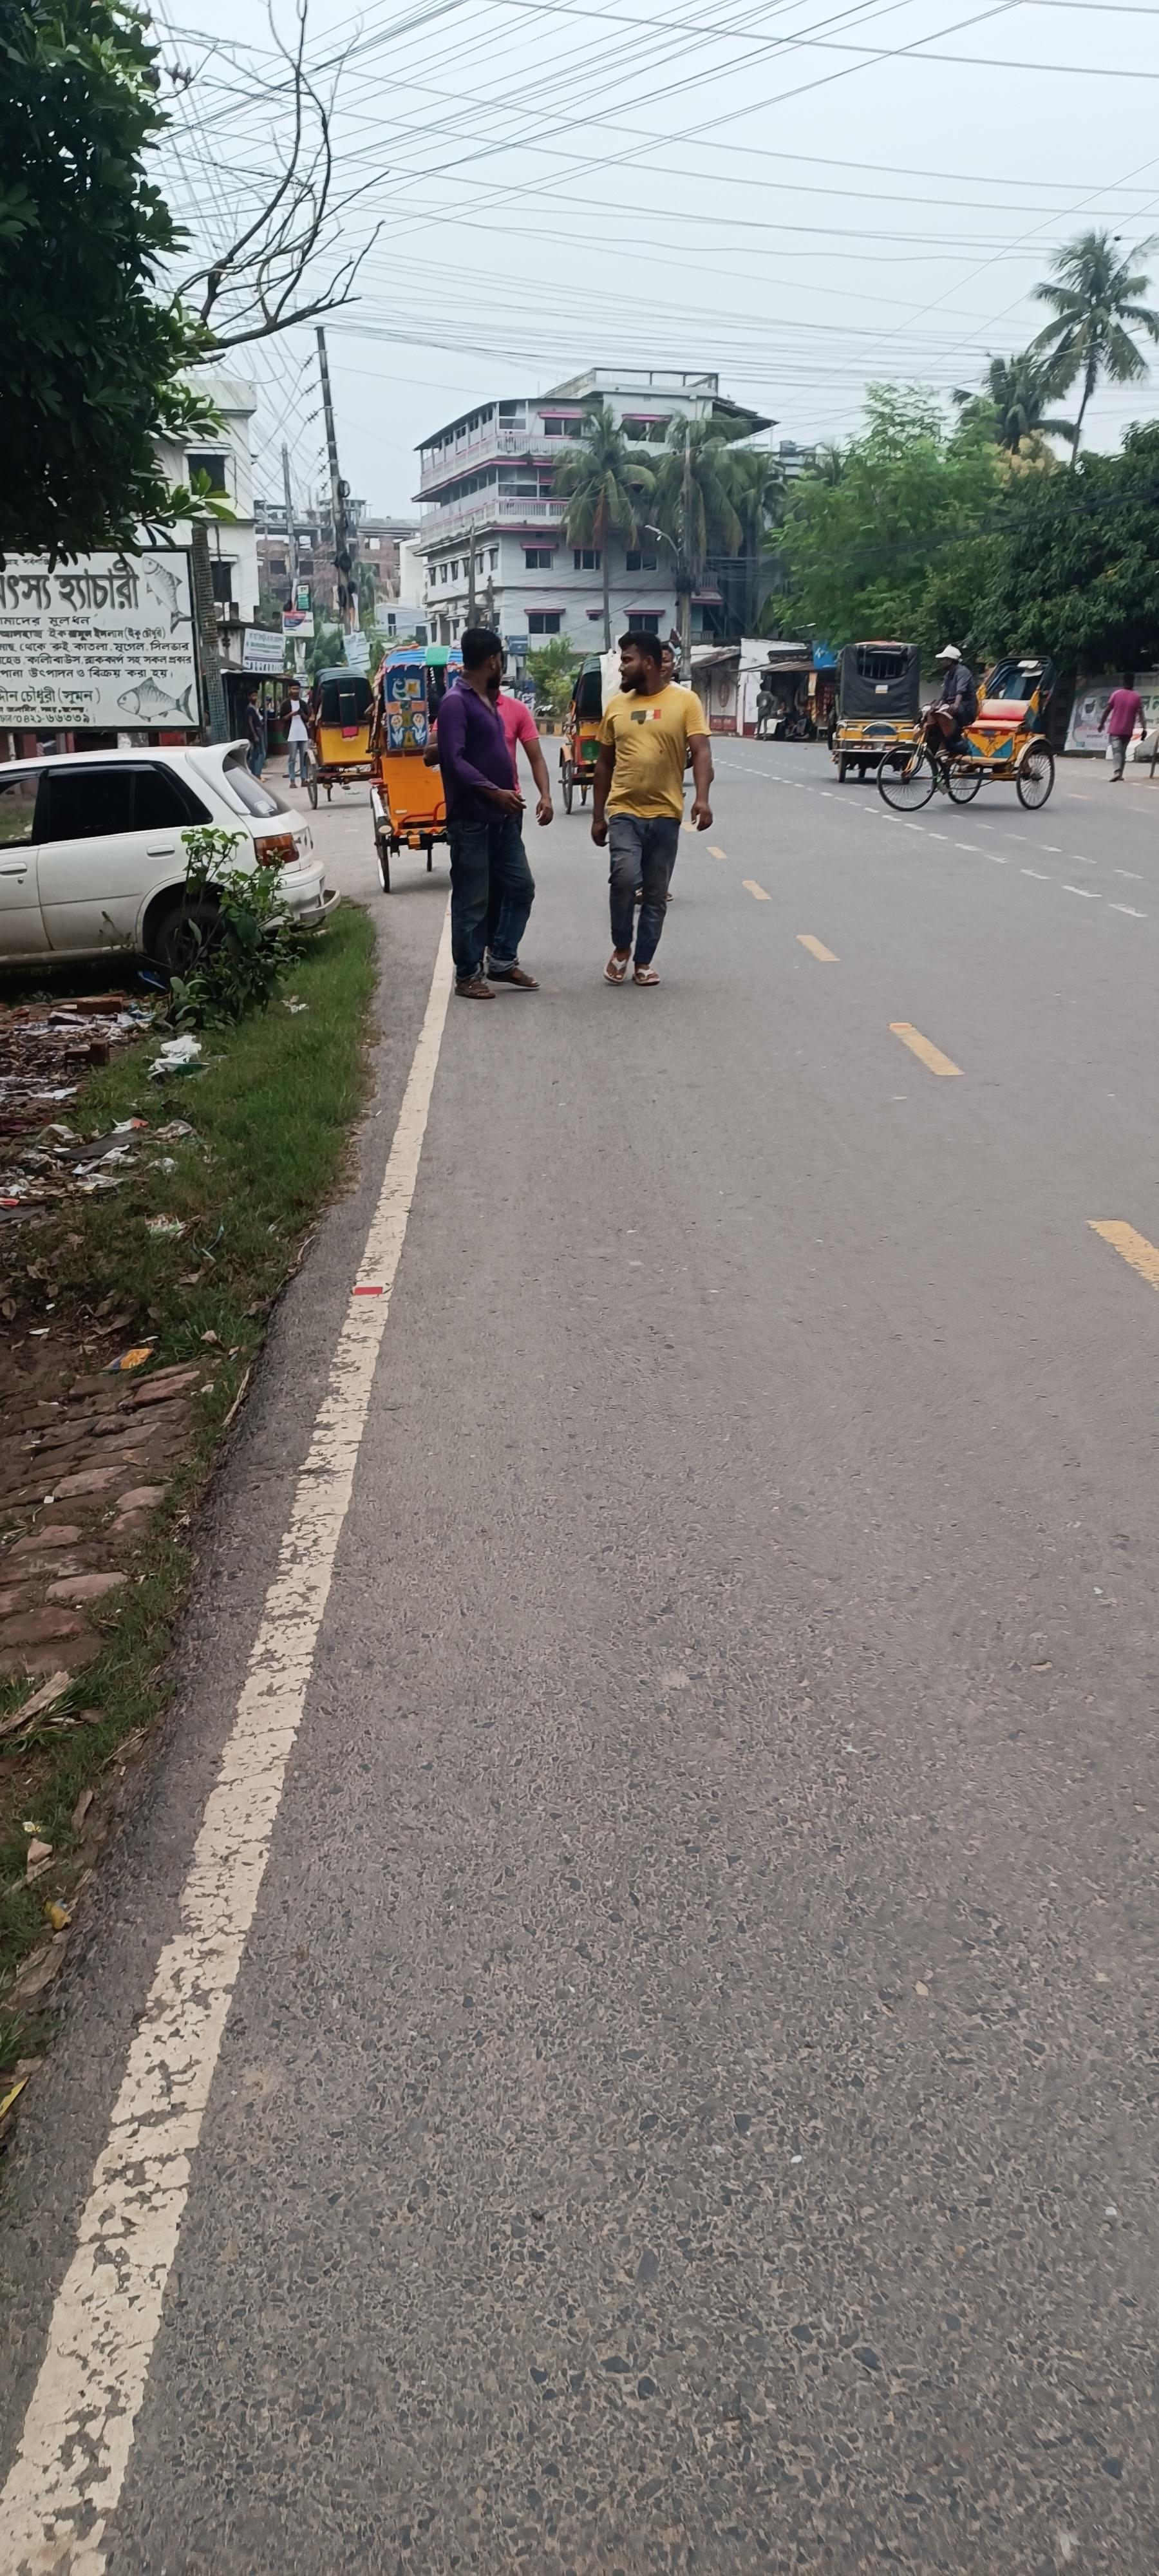Construction-barrier: (3, 876, 456, 2568)
Garbage-bin: (435, 628, 555, 999), (591, 631, 716, 984), (1102, 674, 1146, 780), (245, 692, 268, 780)
Traffic-cone: (839, 651, 1070, 843)
